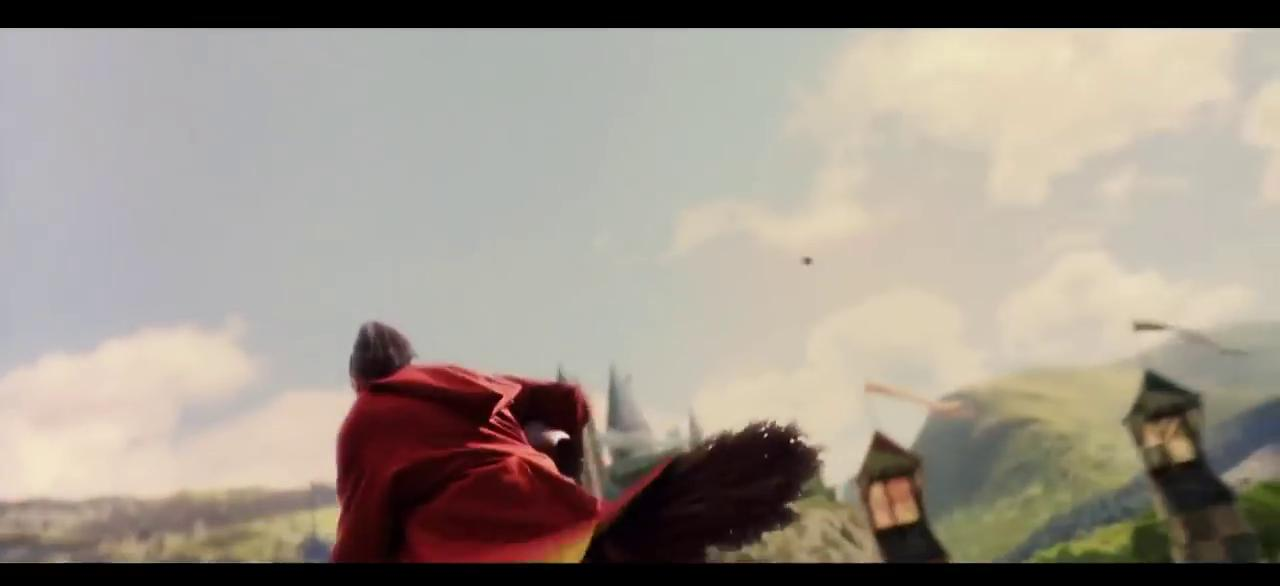bludger: (798, 252, 818, 269)
quaffle: (514, 417, 584, 482)
